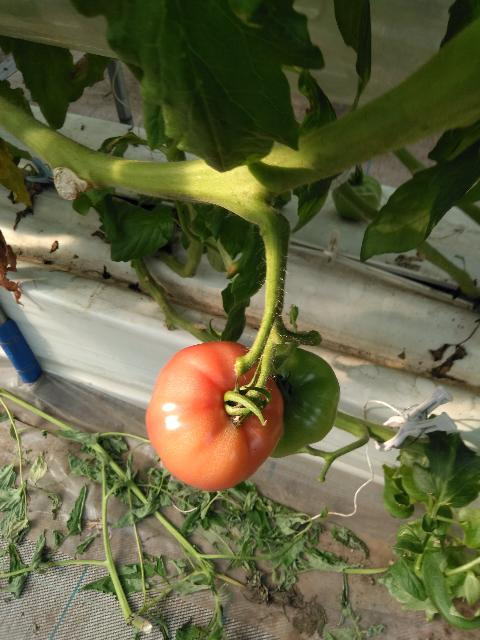b_green: (269, 343, 341, 458), (333, 171, 381, 221)
b_half_ripened: (144, 340, 284, 491)
